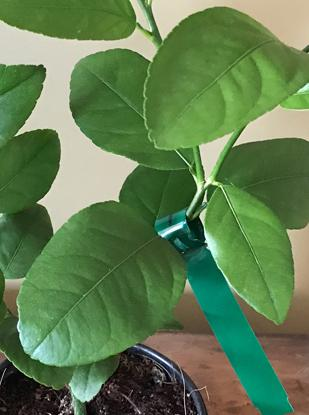Healthy Citrus: (137, 6, 305, 137), (32, 198, 167, 355), (77, 52, 188, 197), (69, 51, 201, 167), (207, 193, 303, 325), (221, 143, 309, 223), (0, 0, 136, 39), (0, 127, 60, 208), (0, 62, 46, 132)
